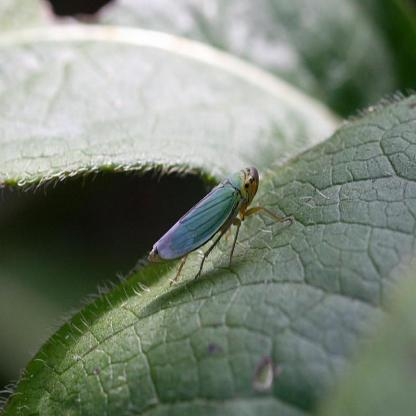Green-Leafhopper: (147, 163, 287, 284)
